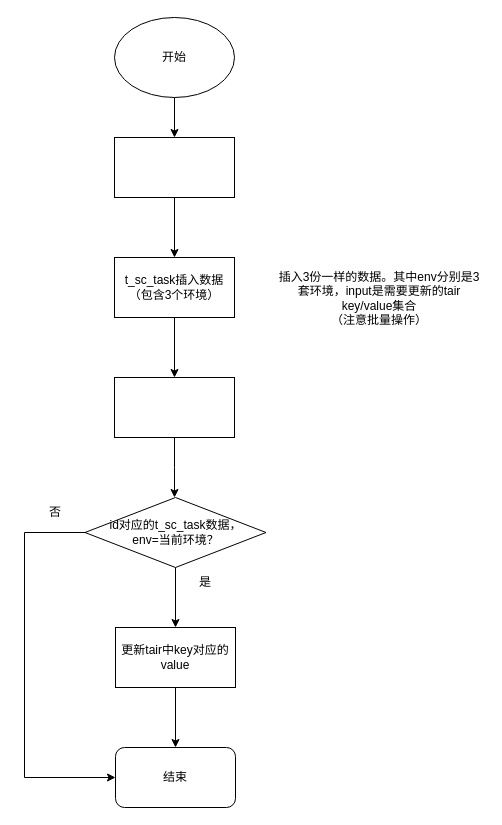
Image size: 502x825. Some labels were removed from this diagram. Here are the shapes that lost their labels. From the top down, the centre of each, then its label:
At [174,167]: "报价变更离线处理 （只有中心环境触发）".
At [174,407]: "t_sc_task表触发精卫 （3地都有）".
